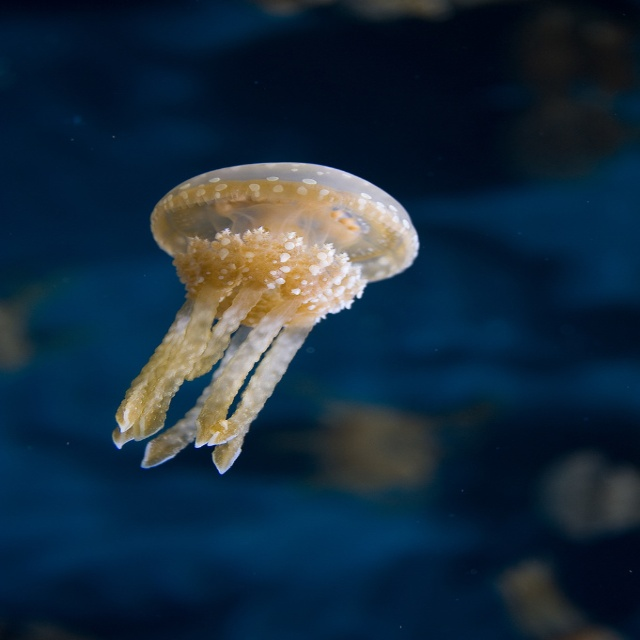Jellyfish: (99, 174, 423, 483)
